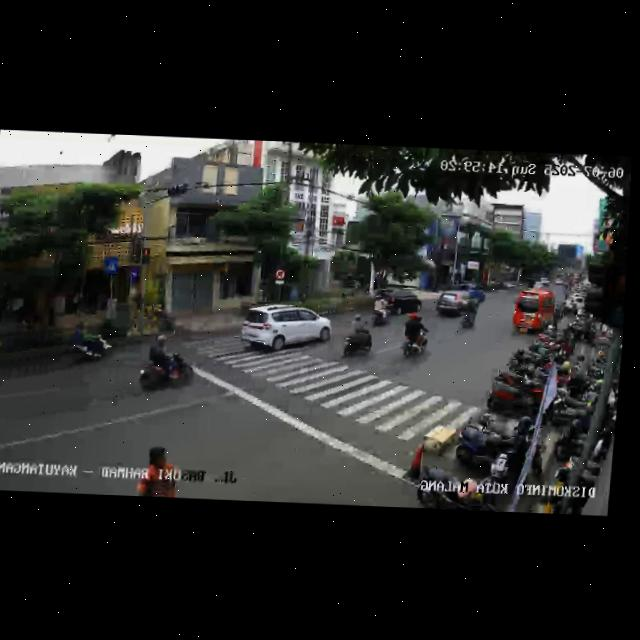car: (237, 302, 332, 358), (510, 287, 561, 337), (435, 286, 482, 318), (387, 292, 422, 315)
motorcycle: (133, 339, 198, 397), (62, 317, 113, 371), (340, 315, 376, 361), (398, 313, 430, 358), (456, 298, 478, 332), (371, 293, 392, 328)
person: (133, 443, 181, 497)
